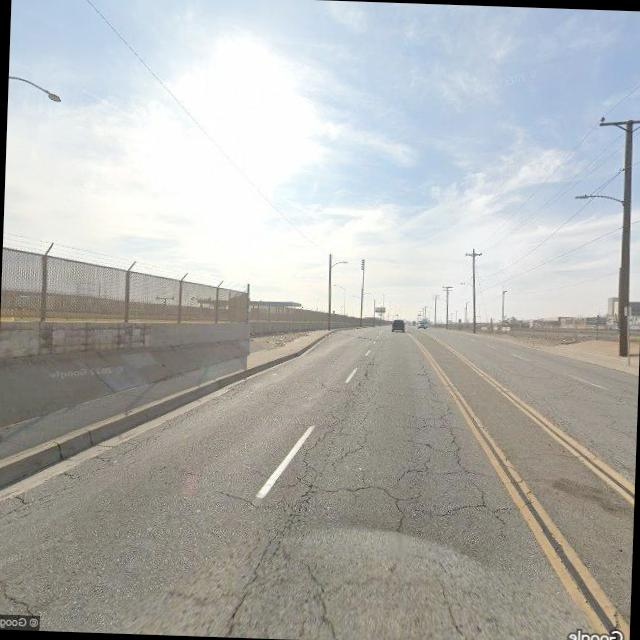crack: (206, 359, 531, 640)
